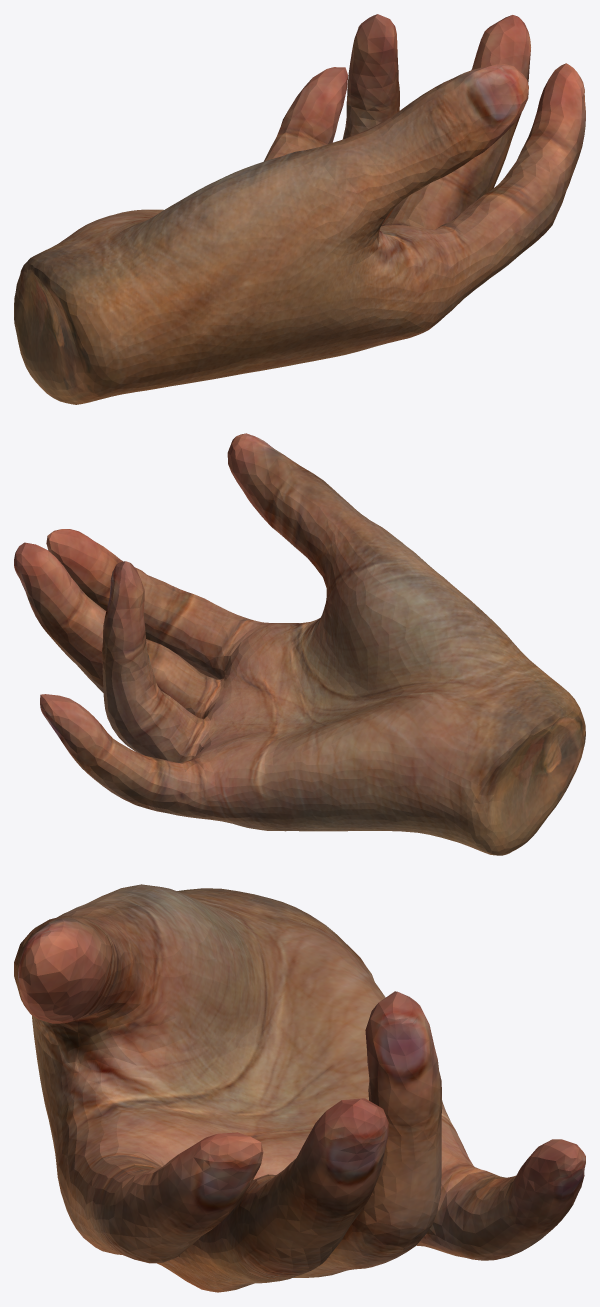
File: skin.obj
3 views of the same model, one above another, from view 1: azimuth 30°, elevation 25°; view 2: azimuth 150°, elevation 25°; view 3: azimuth 270°, elevation 25° (orthographic). The views are drawn at different scales.
Size of the model in its own units: 165 by 89.89 by 112.
Materials: 1 (1 with a texture image).
